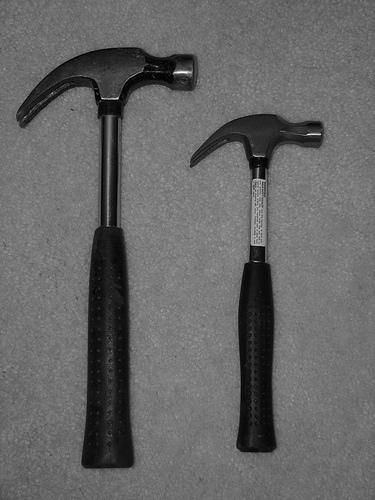hammer: (13, 44, 197, 472), (187, 110, 325, 454)
